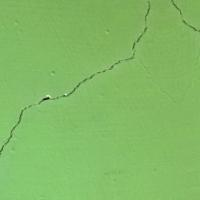crack: (1, 11, 153, 161)
